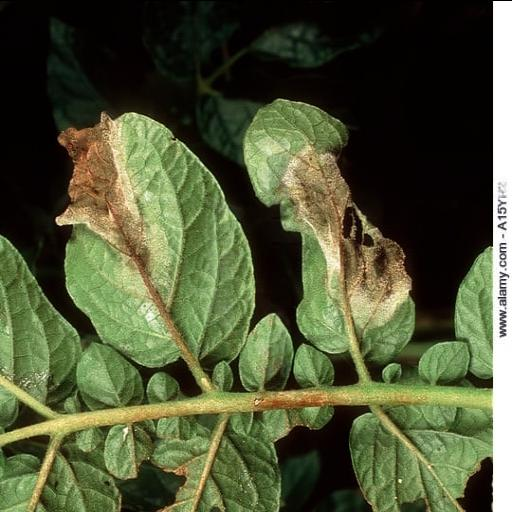disease_tomato: (52, 110, 256, 366), (242, 97, 414, 364)
